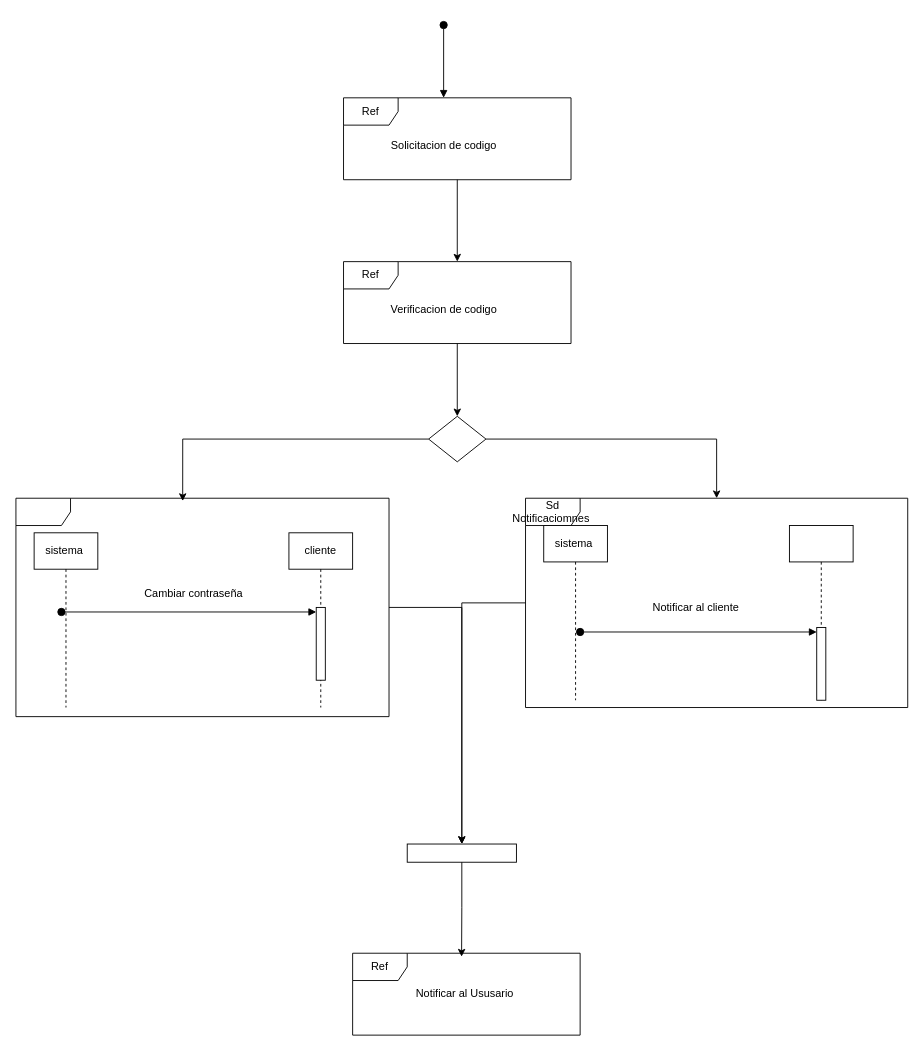
Some shapes in this 924 by 1051 pixel diagram are drawn without their labels. The box of each missing label's shape, as (x1, y1, x2, y2) in pixels:
Sd Cita: (15, 497, 389, 717)
usuario: (789, 525, 853, 700)
